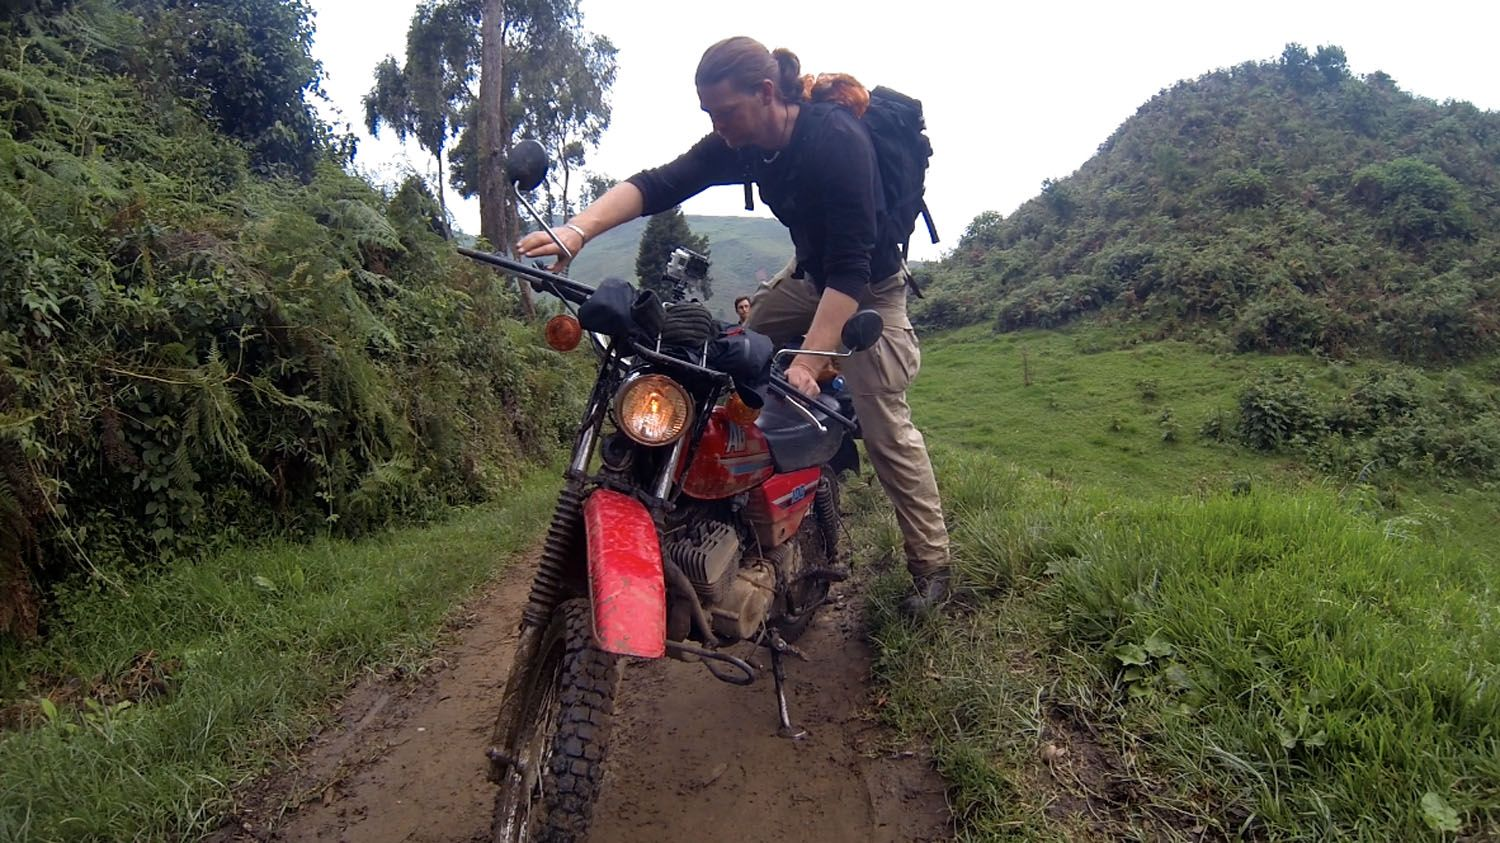motorbike: (420, 221, 931, 843)
